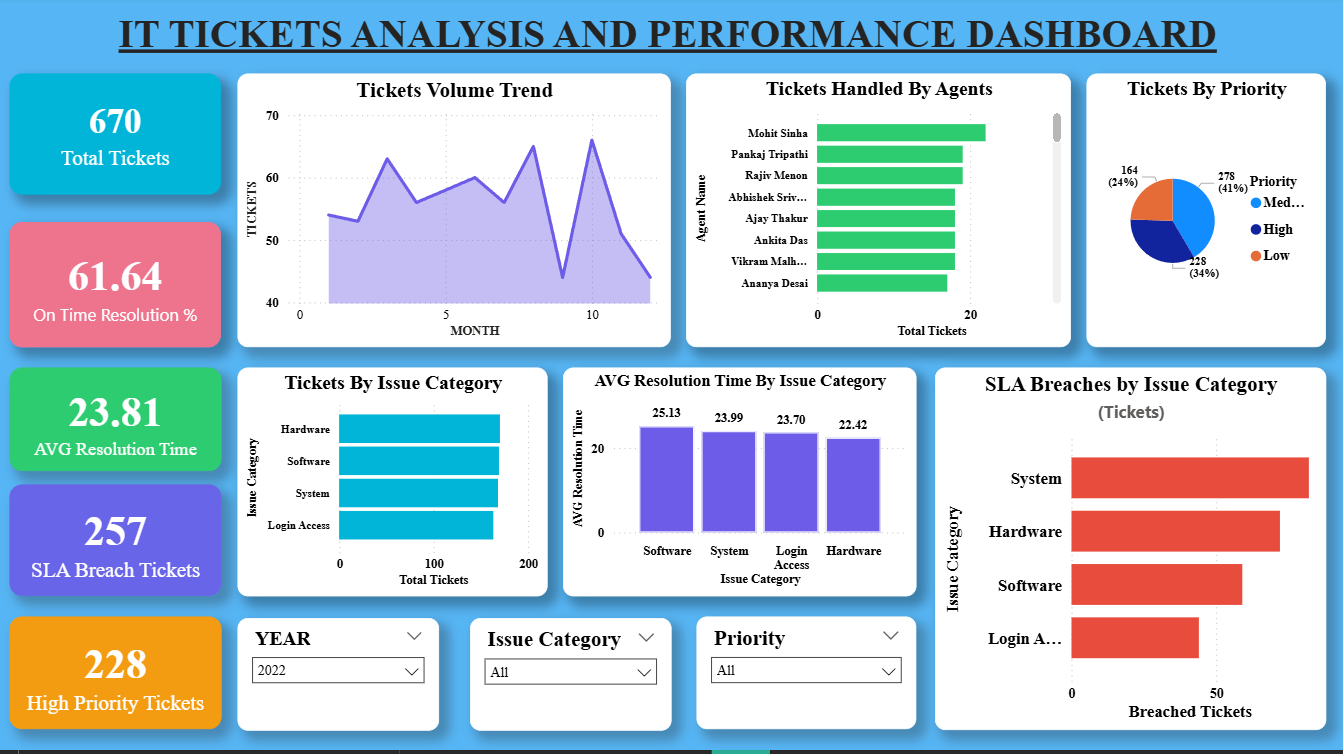

This screenshot's page, from the dashboard's own definition file:
{"tool":"powerbi","page":{"name":"IT service desk Performance dashboard","canvas":[1280,720],"ordinal":0},"visuals":[{"type":"card","fields":{"Values":["Count(ticket_data.Ticket_id)"]},"box":[10,96,202,110.3],"z":0},{"type":"card","fields":{"Values":["Avg(ticket_data.Resolution_time)"]},"box":[10,355.2,202,98.8],"z":1000},{"type":"card","fields":{"Values":["ticket_data.SLA Breach Tickets"]},"box":[10,467,202,106],"z":2000},{"type":"card","fields":{"Values":["ticket_data.High Priority Tickets"]},"box":[10,593,202,107.4],"z":3000},{"type":"card","fields":{"Values":["ticket_data.On Time Resolution %"]},"box":[10,222,202,114.6],"z":4000},{"type":"lineChart","title":"Tickets Volume Trend","fields":{"Category":["Dim_Date.Month Number"],"Y":["Count(ticket_data.Ticket_id)"]},"box":[227.8,75.9,412.5,260.7],"z":5000},{"type":"clusteredBarChart","title":"Tickets By Issue Category","fields":{"Category":["ticket_data.Issue_Category"],"Y":["Count(ticket_data.Ticket_id)"]},"box":[227.8,355.2,295.1,217.7],"z":6000},{"type":"clusteredBarChart","title":"Tickets Handled By Agents","fields":{"Category":["Agent_Data.Agent_Name"],"Y":["Count(ticket_data.Ticket_id)"]},"box":[654.6,75.9,366.7,260.7],"z":7000},{"type":"pieChart","title":"Tickets By Priority","fields":{"Category":["ticket_data.Priority"],"Y":["Count(ticket_data.Ticket_id)"]},"box":[1035.6,75.9,227.8,260.7],"z":8000},{"type":"clusteredColumnChart","title":"AVG Resolution Time By Issue Category","fields":{"Category":["ticket_data.Issue_Category"],"Y":["Avg(ticket_data.Resolution_time)"]},"box":[537.1,355.2,336.6,217.7],"z":9000},{"type":"slicer","fields":{"Values":["Dim_Date.Year"]},"box":[227.8,594.4,191.9,107.4],"z":10000},{"type":"slicer","fields":{"Values":["ticket_data.Issue_Category"]},"box":[448.3,594.4,191.9,107.4],"z":11000},{"type":"slicer","fields":{"Values":["ticket_data.Priority"]},"box":[664.6,593,209.1,107.4],"z":12000},{"type":"textbox","box":[10.6,12.1,1253.8,65.1],"z":13000},{"type":"clusteredBarChart","title":"SLA Breaches  by Issue Category","fields":{"Category":["ticket_data.Issue_Category"],"Y":["ticket_data.SLA Breach Tickets"]},"box":[890.9,355.2,372.4,345.2],"z":14000}]}

Visuals, with their boxes in screenshot pixels (x1, y1, x2, y2), scaled from the page's 1280x720 canvas onto the 1343x754 screenshot:
card - Count(ticket_data.Ticket_id): region(10, 101, 222, 216)
card - Avg(ticket_data.Resolution_time): region(10, 372, 222, 475)
card - ticket_data.SLA Breach Tickets: region(10, 489, 222, 600)
card - ticket_data.High Priority Tickets: region(10, 621, 222, 733)
card - ticket_data.On Time Resolution %: region(10, 232, 222, 352)
"Tickets Volume Trend" lineChart: region(239, 79, 672, 352)
"Tickets By Issue Category" clusteredBarChart: region(239, 372, 549, 600)
"Tickets Handled By Agents" clusteredBarChart: region(687, 79, 1072, 352)
"Tickets By Priority" pieChart: region(1087, 79, 1326, 352)
"AVG Resolution Time By Issue Category" clusteredColumnChart: region(564, 372, 917, 600)
slicer - Dim_Date.Year: region(239, 622, 440, 735)
slicer - ticket_data.Issue_Category: region(470, 622, 672, 735)
slicer - ticket_data.Priority: region(697, 621, 917, 733)
textbox: region(11, 13, 1327, 81)
"SLA Breaches  by Issue Category" clusteredBarChart: region(935, 372, 1325, 733)
